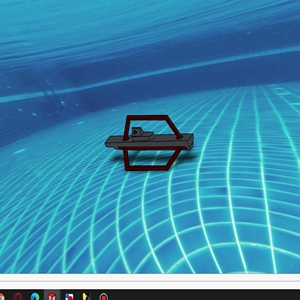submarine: (104, 112, 197, 172)
